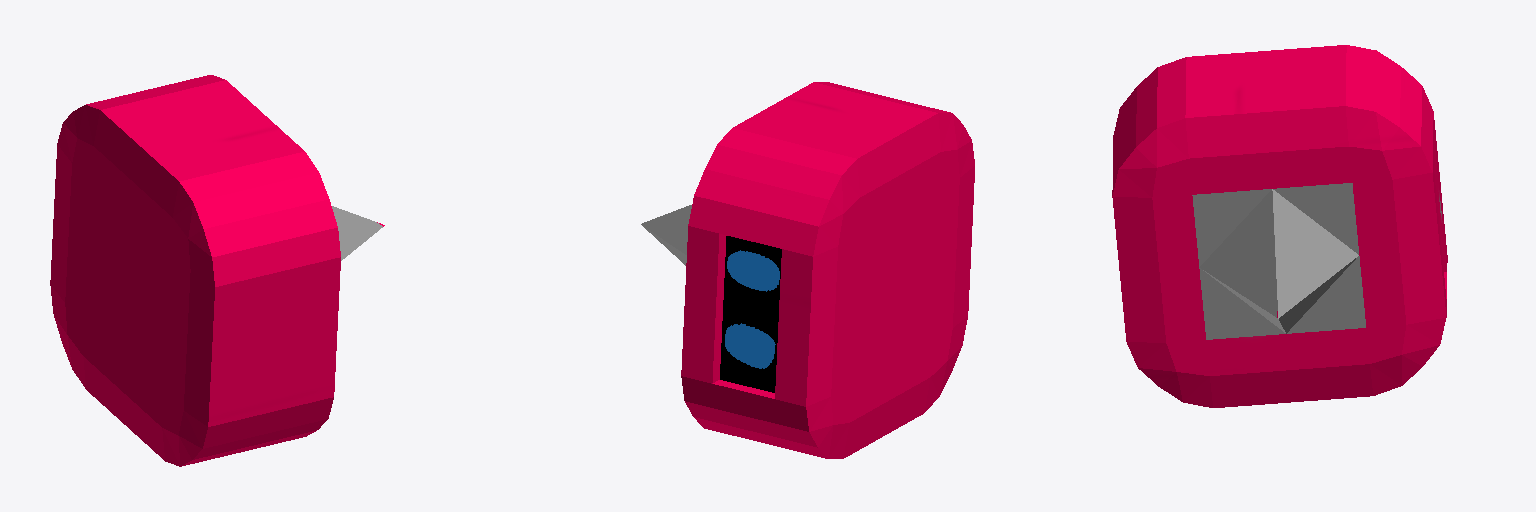
3 renders of one model, left to right at view 1: azimuth 30°, elevation 25°; view 2: azimuth 150°, elevation 25°; view 3: azimuth 270°, elevation 25°, orthographic.
Visible parts, largest first — view 1: Cube; view 2: Cube; view 3: Cube.
Part boxes in pixels (left/top/right/bottom): Cube: left=50, top=75, right=384, bottom=466; Cube: left=641, top=82, right=974, bottom=458; Cube: left=1112, top=45, right=1447, bottom=407.
Size of the model in its own units: 1.85 by 2.08 by 2.09.
Materials: 1 (1 with a texture image).